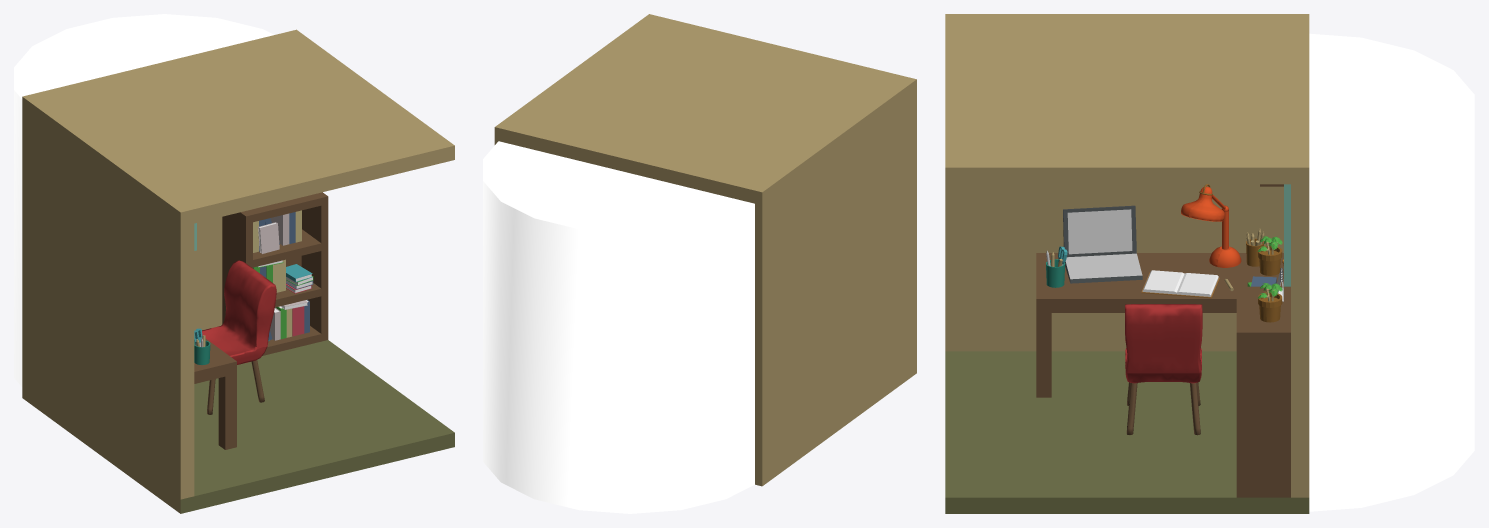
The picture shows the model from 3 angles, left to right: view 1: azimuth 30°, elevation 25°; view 2: azimuth 150°, elevation 25°; view 3: azimuth 270°, elevation 25°; orthographic projection. The views are drawn at different scales.
Parts seen in each view (by area): view 1: 3DSMeshMatrix (×8); view 2: 3DSMeshMatrix (×2); view 3: 3DSMeshMatrix (×15).
Part boxes in pixels (left/top/right/bottom): 3DSMeshMatrix (×8): left=14, top=14, right=454, bottom=513; 3DSMeshMatrix (×2): left=483, top=14, right=916, bottom=513; 3DSMeshMatrix (×15): left=945, top=14, right=1474, bottom=513.
Size of the model in its own units: 20 by 21 by 29.08.
